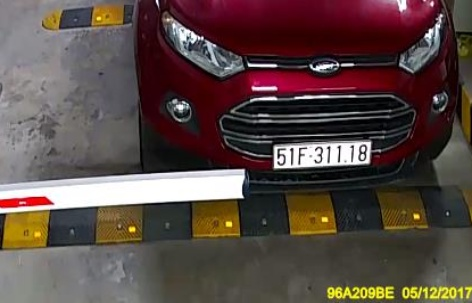plate: (268, 137, 374, 171)
